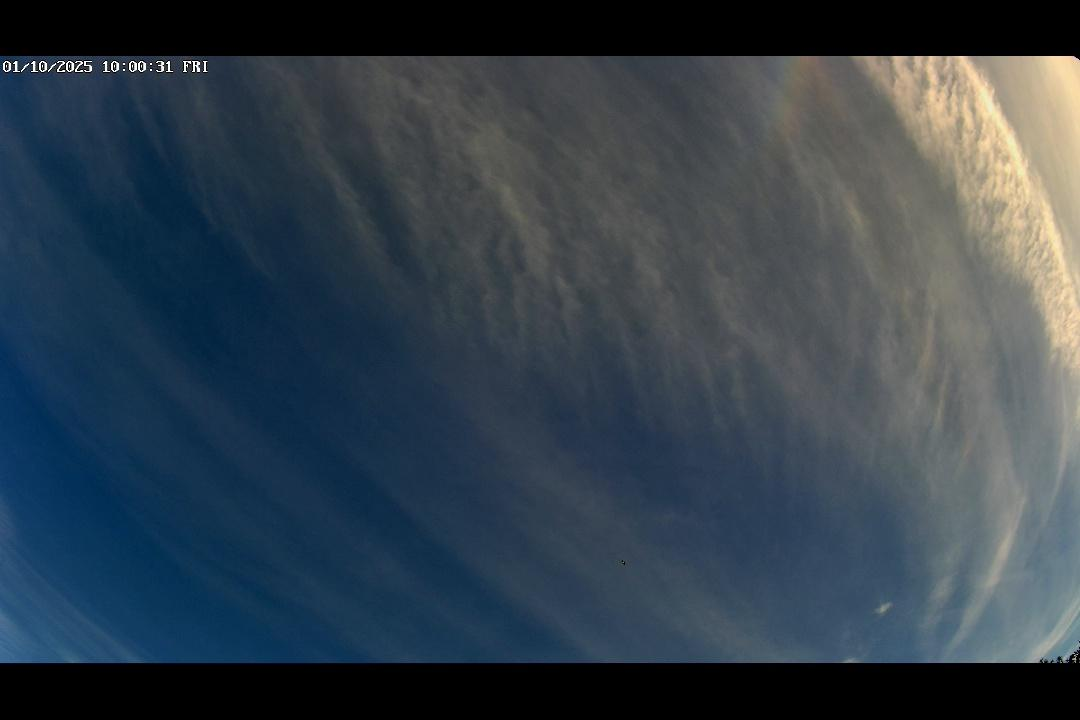WildLife: (608, 550, 637, 572)
